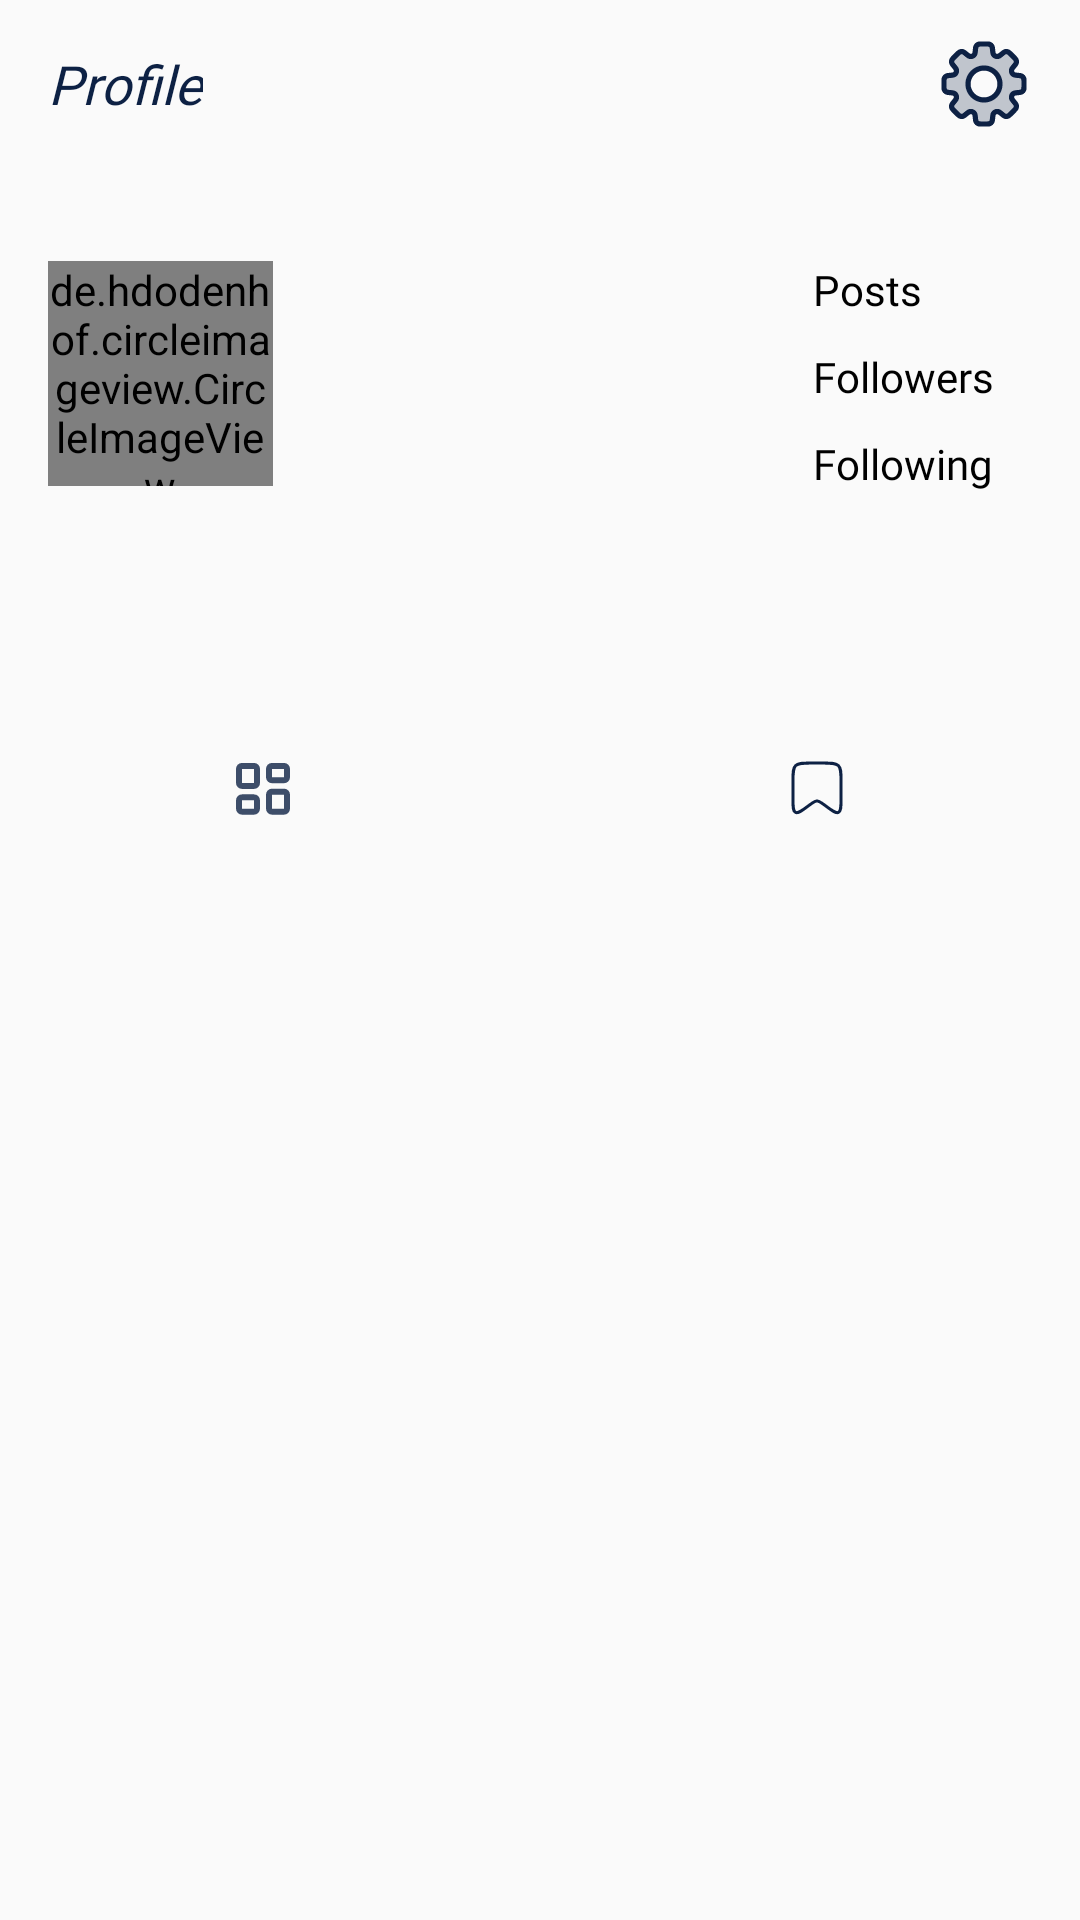

Icon click points for this 1080 × 1920 phone screenshot, format (x,y):
Bookmark: (817,788)
Dashboard: (263,789)
Setting: (984,84)
